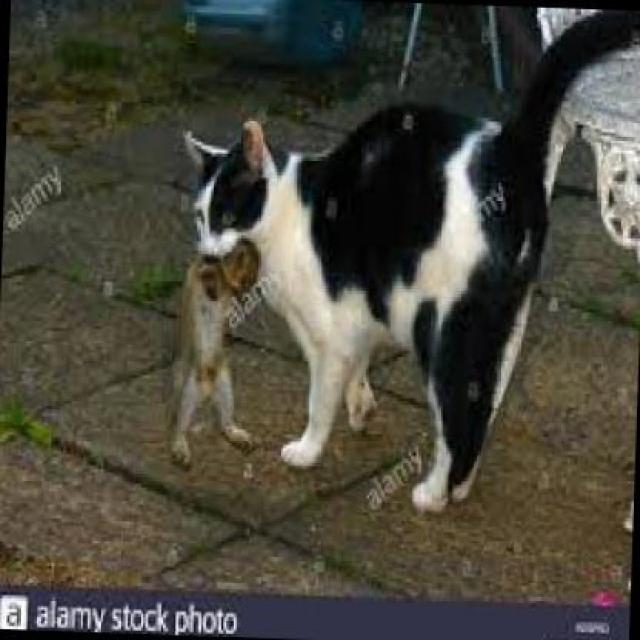animals: (164, 4, 638, 498)
